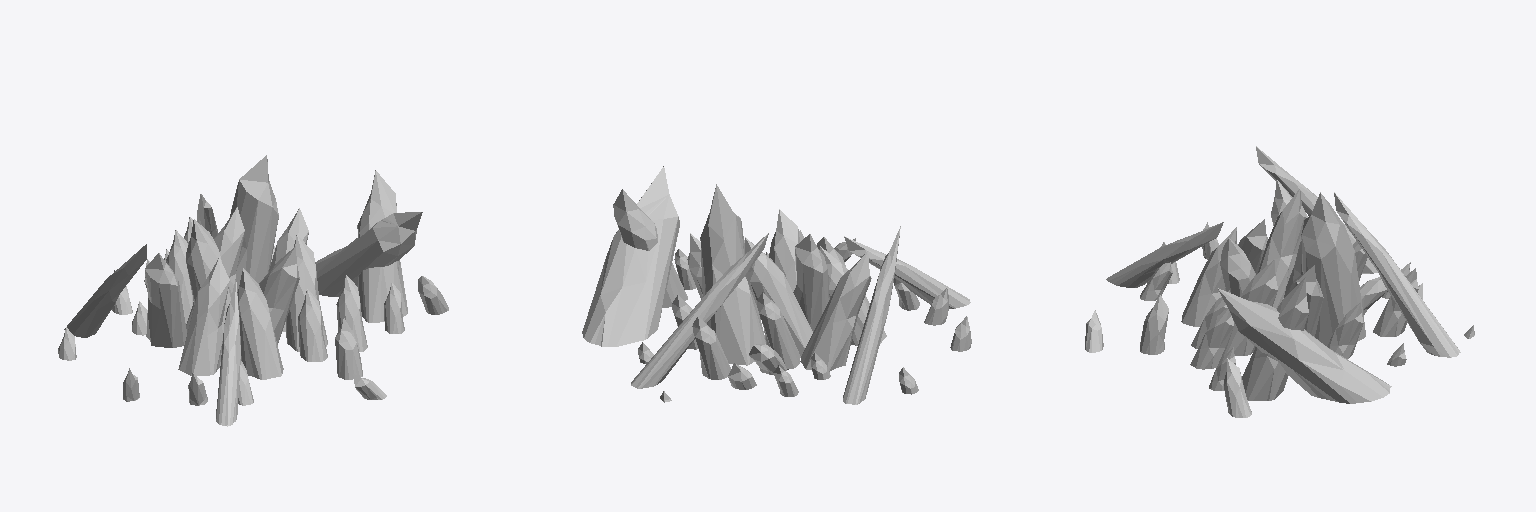
File: crystals.obj
3 views of the same model, side by side, from view 1: azimuth 30°, elevation 25°; view 2: azimuth 150°, elevation 25°; view 3: azimuth 270°, elevation 25° (orthographic).
Visible parts, largest first — view 1: Icosphere.016; view 2: Icosphere.016; view 3: Icosphere.016.
Boxes of the visible parts, x1=… form: Icosphere.016: x1=58, y1=155, x2=448, y2=426; Icosphere.016: x1=582, y1=166, x2=971, y2=404; Icosphere.016: x1=1085, y1=146, x2=1474, y2=417.
Size of the model in its own units: 9.15 by 4.01 by 8.97.